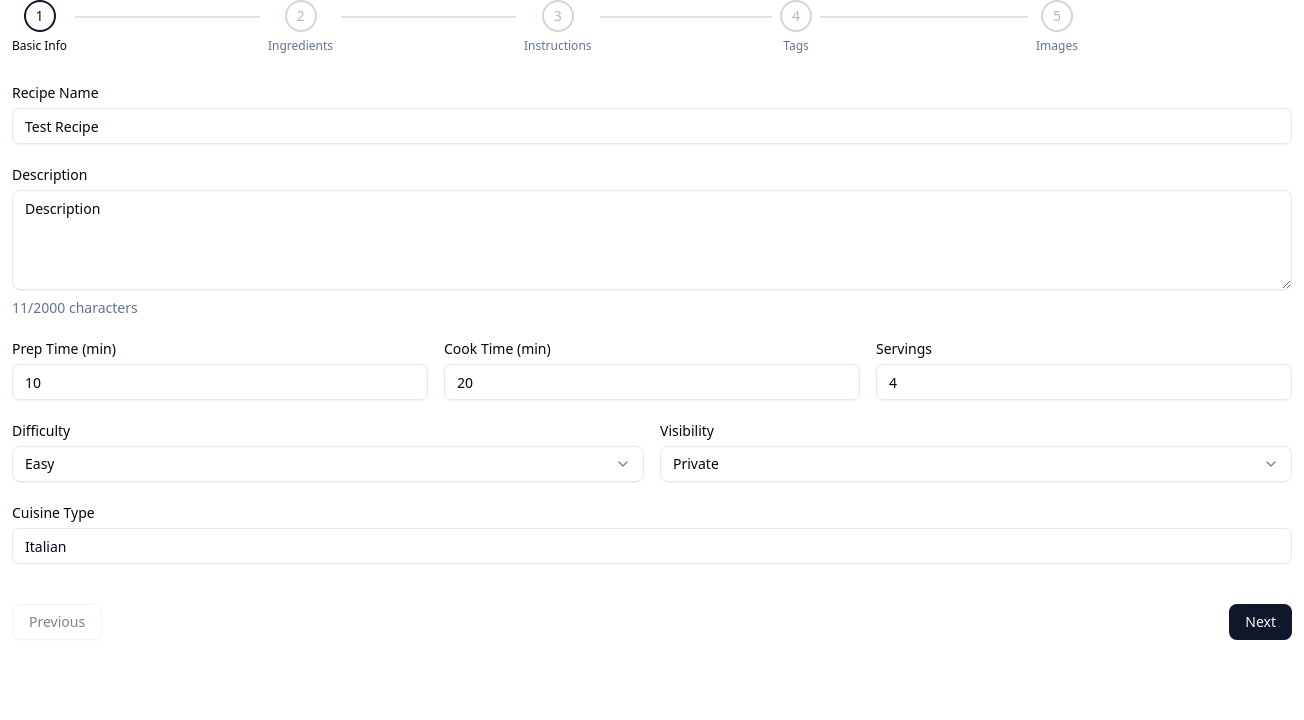
Test case: RecipeFormWizard › navigates to step 2 when step 1 is valid
Step 1. Click the button "Next" → (1261, 622), box [1229, 604, 1292, 640]
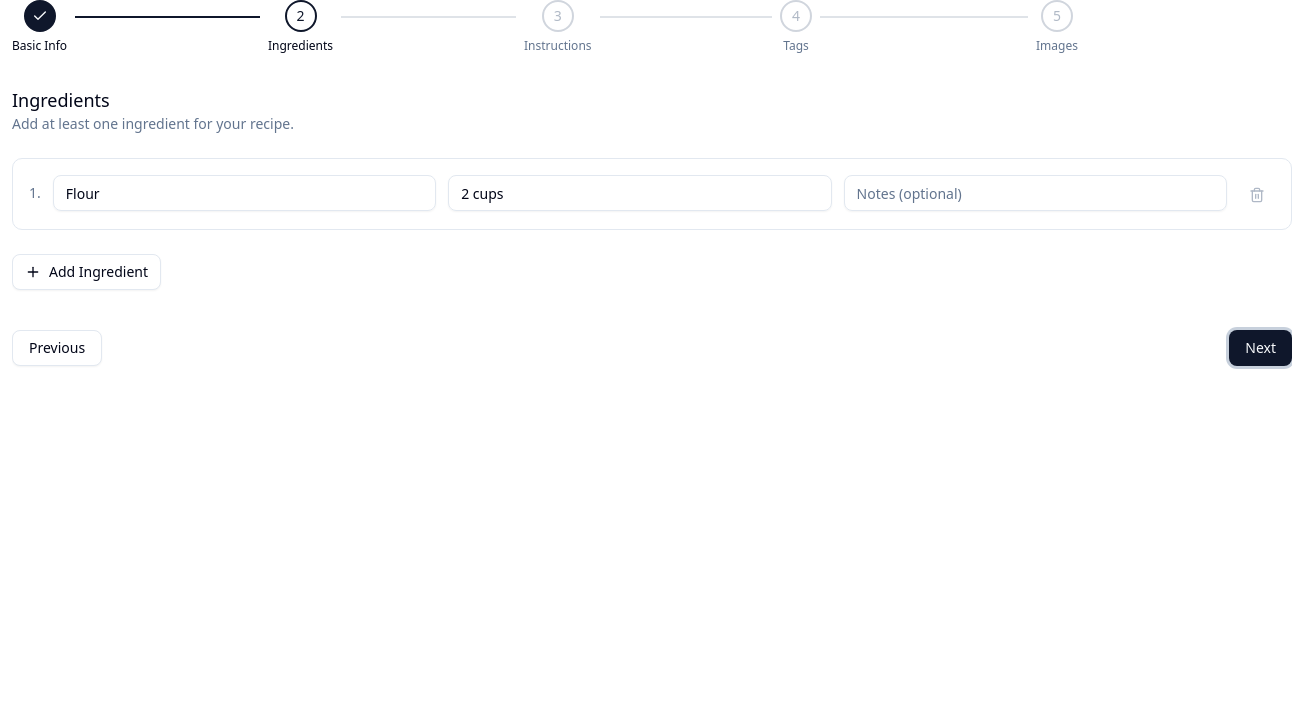
Now the button "Add Ingredient" is shown, box [12, 254, 161, 290]
